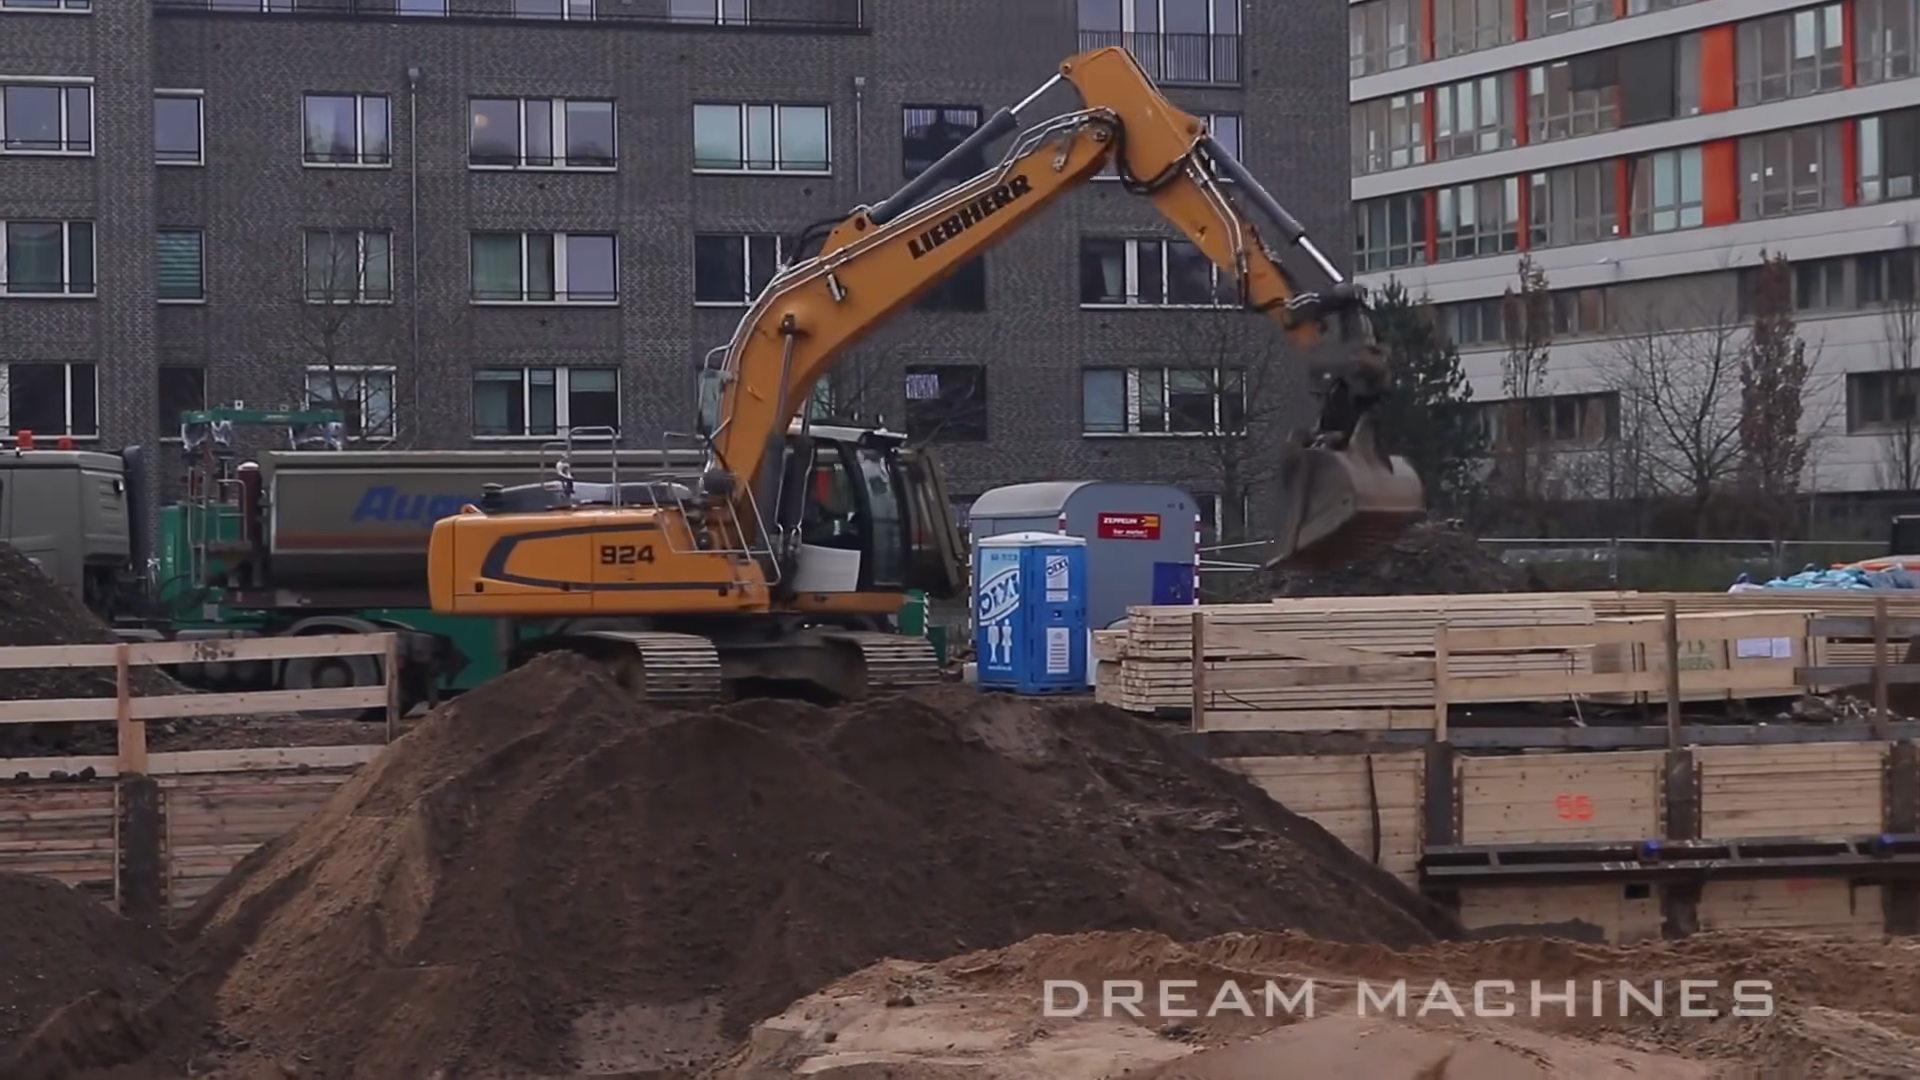excavator: (414, 33, 1449, 731)
